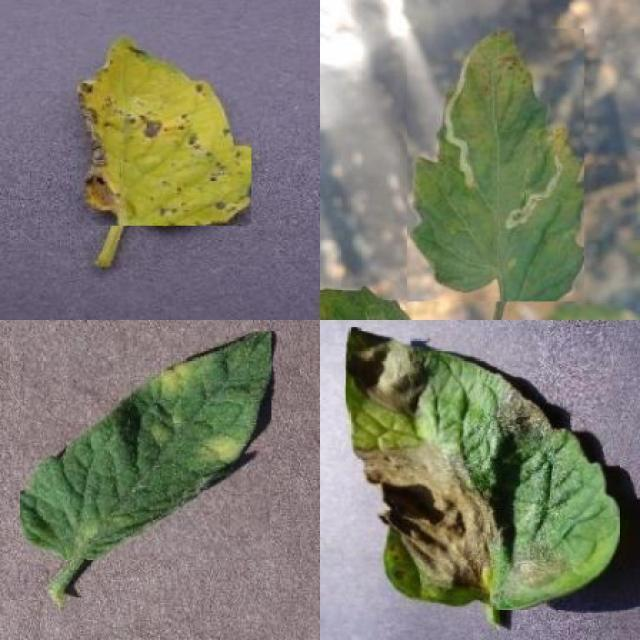Late Blight: (346, 327, 621, 610)
Leaf Miner: (408, 28, 585, 302)
Leaf Mold: (21, 332, 272, 561)
Septoria: (78, 34, 251, 226)
